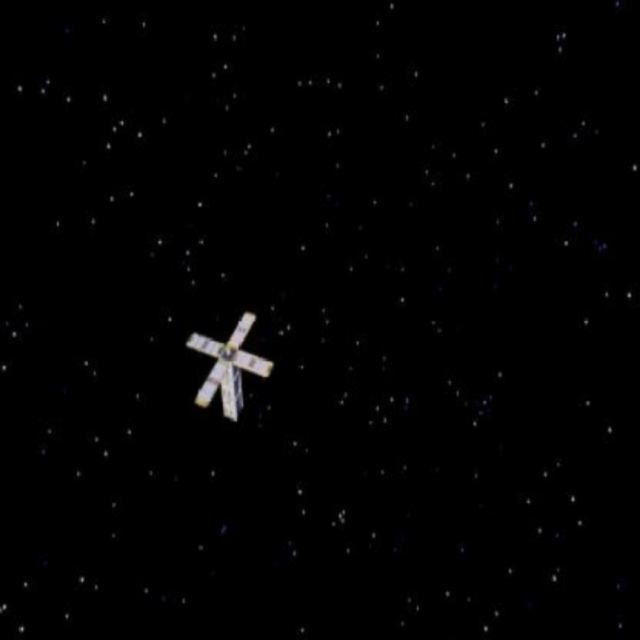satellite: (177, 300, 275, 435)
